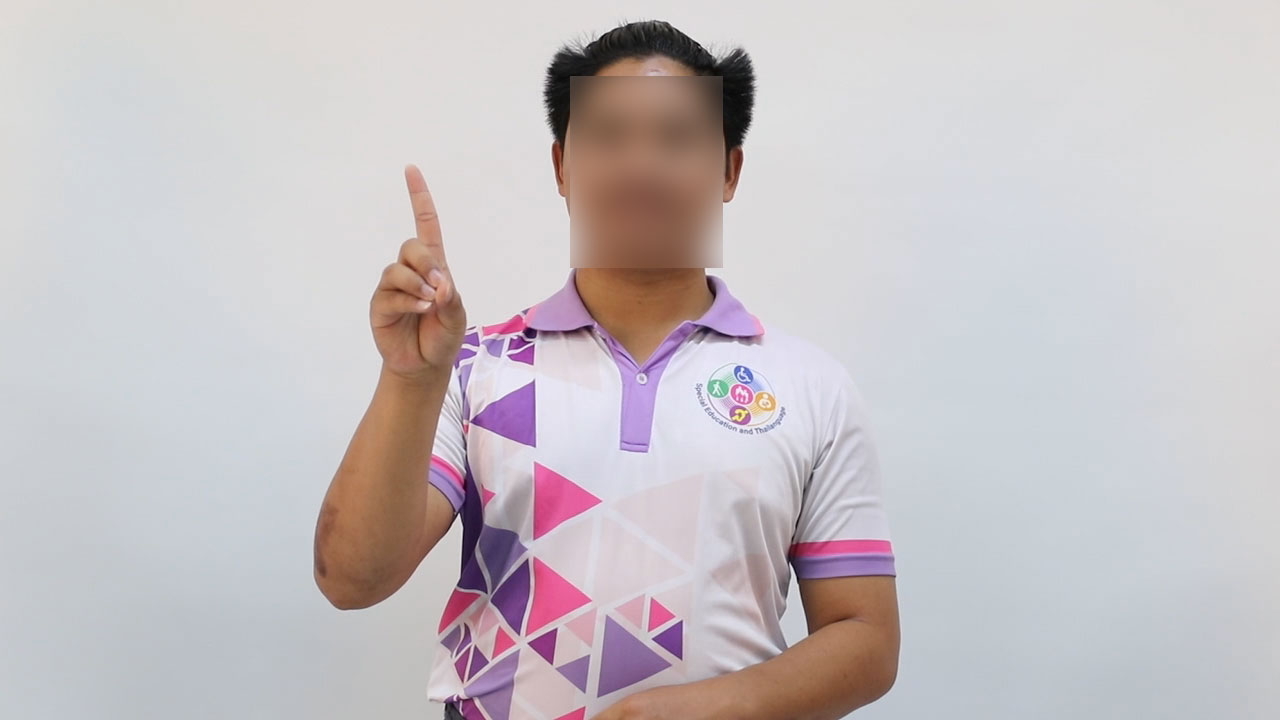dor: (334, 155, 479, 387)
